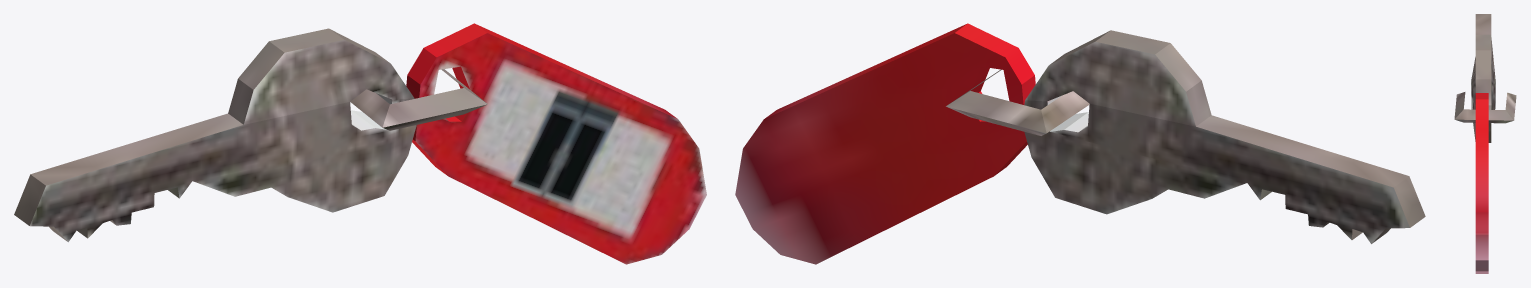
File: key_main_door.glb
3 renders of one model, left to right at view 1: azimuth 30°, elevation 25°; view 2: azimuth 150°, elevation 25°; view 3: azimuth 270°, elevation 25°, orthographic. The views are drawn at different scales.
Parts seen in each view (by area): view 1: Plane_001; view 2: Plane_001; view 3: Plane_001.
Part boxes in pixels (<box>): Plane_001: <box>14,23,706,264</box>; Plane_001: <box>735,23,1425,264</box>; Plane_001: <box>1454,14,1516,273</box>.
Bounding box in the file's own units: 8.07 × 3.36 × 1.28.
1 material, 1 textured.
